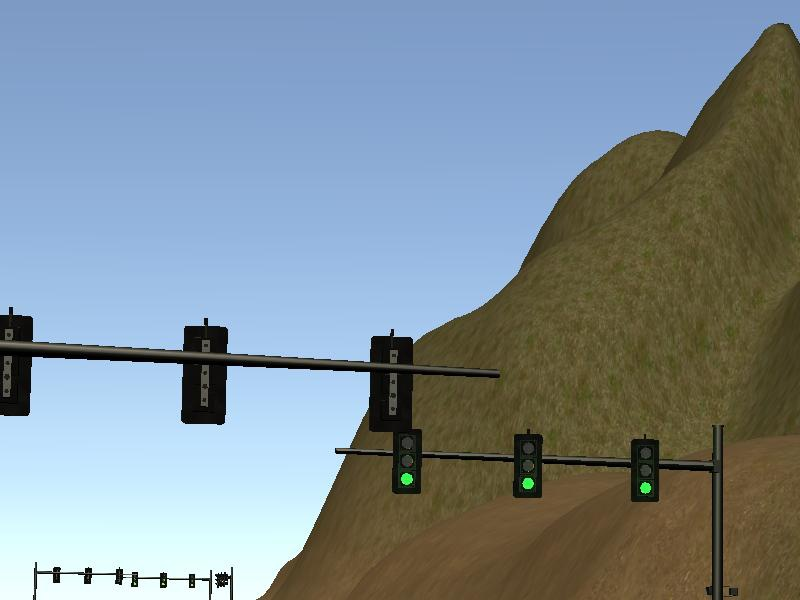Green: (514, 437, 543, 499), (632, 440, 660, 503), (393, 432, 421, 493), (130, 572, 138, 587), (160, 572, 167, 588), (189, 573, 194, 587)
